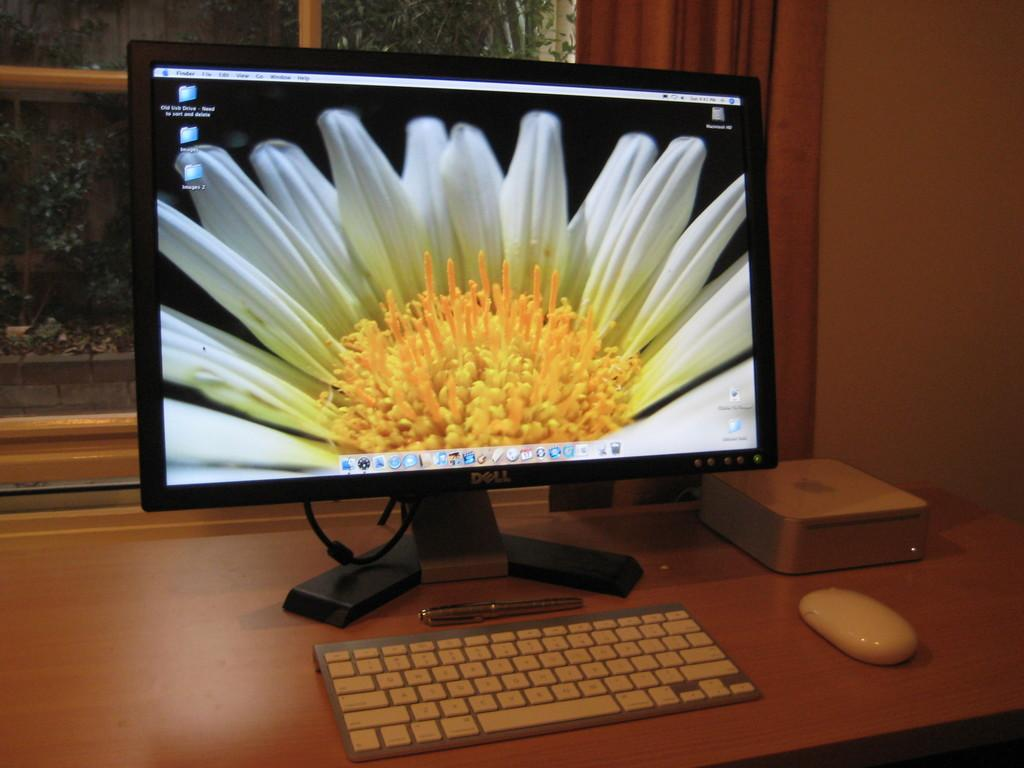Computer-monitor: (124, 42, 775, 627)
